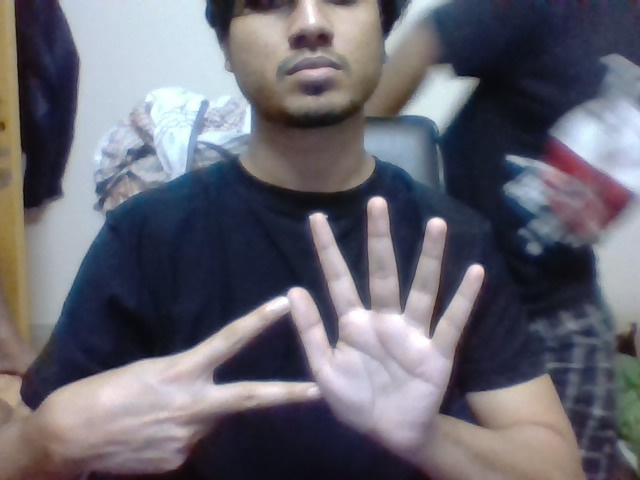N: (175, 291, 287, 418)
